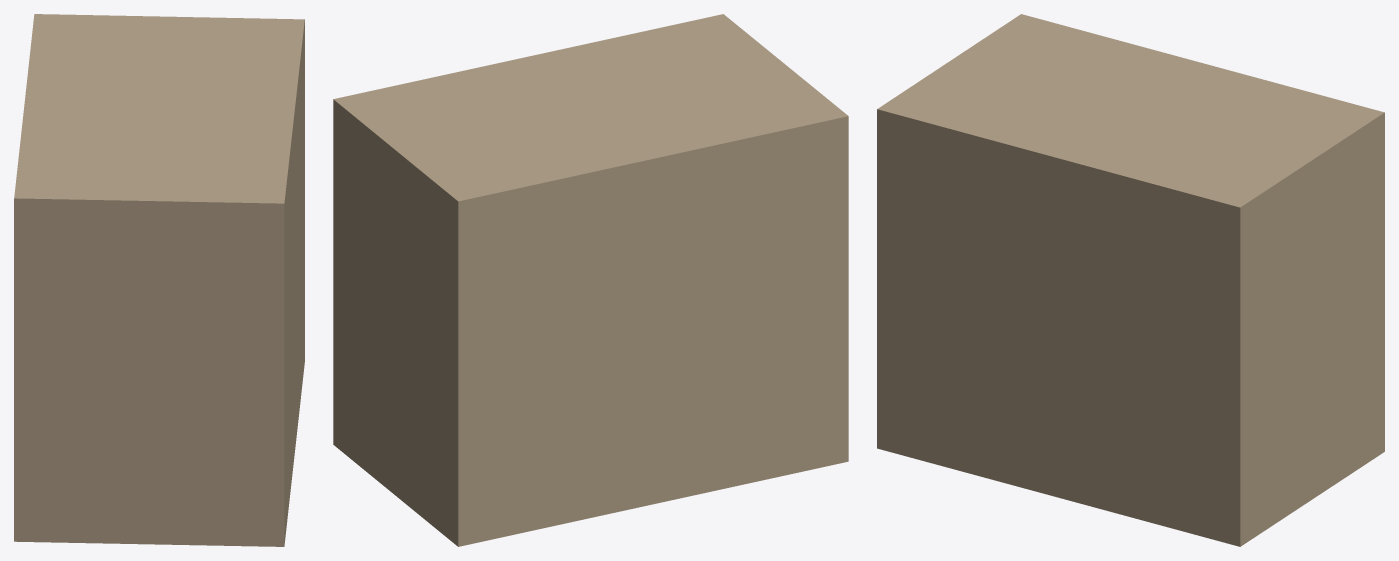
The model's file is bld_100469293.dae.
3 renders of one model, left to right at view 1: azimuth 30°, elevation 25°; view 2: azimuth 150°, elevation 25°; view 3: azimuth 270°, elevation 25°, orthographic.
Parts seen in each view (by area): view 1: bld_100469293; view 2: bld_100469293; view 3: bld_100469293.
Part boxes in pixels (box(x1,y1,x2,y2)): bld_100469293: box(14, 14, 304, 546); bld_100469293: box(333, 14, 848, 546); bld_100469293: box(877, 14, 1384, 546).
Size of the model in its own units: 9.79 by 10.85 by 8.
